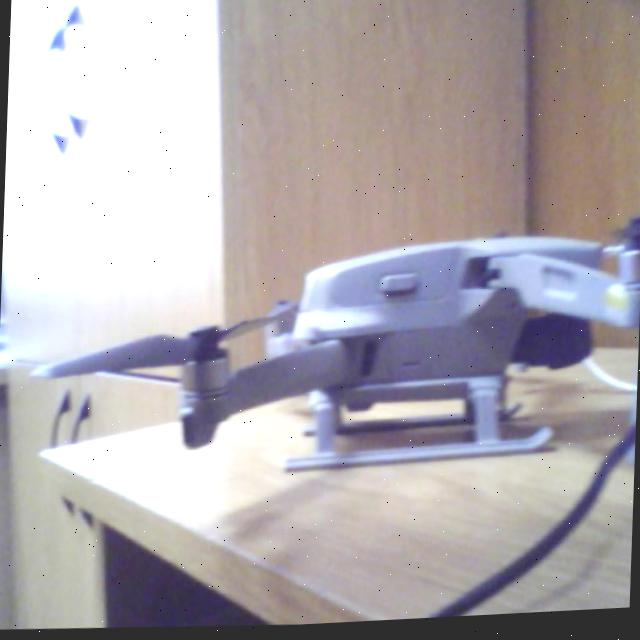drone: (65, 204, 640, 525)
